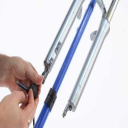fork: (17, 68, 63, 102)
